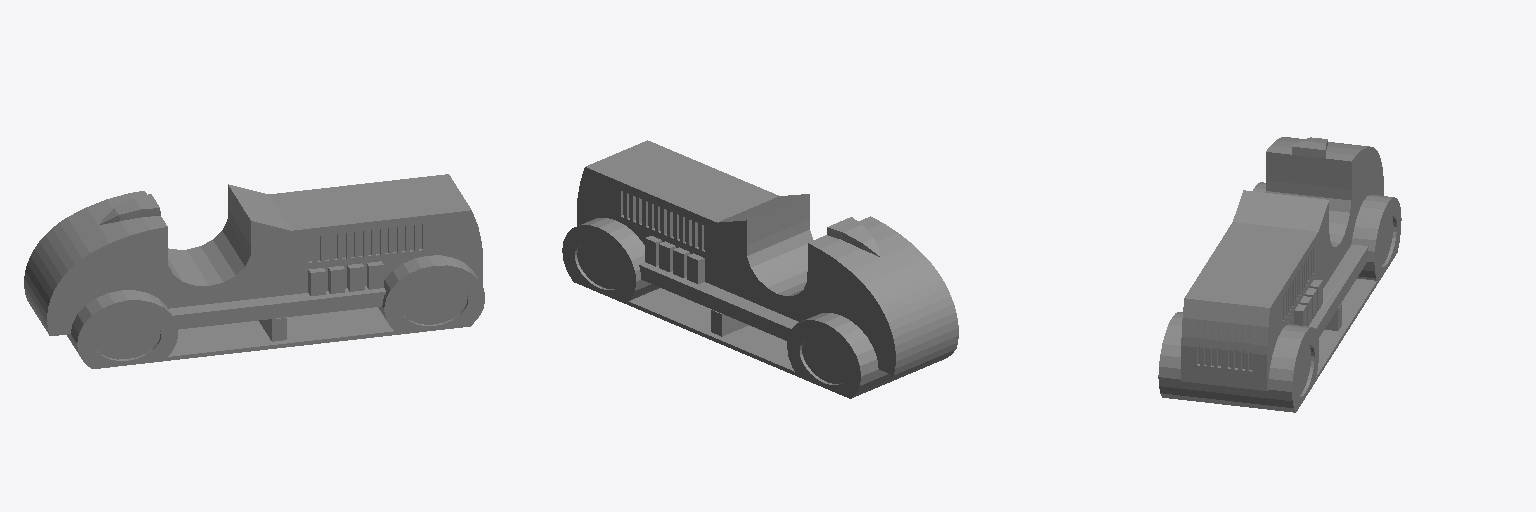
File: Car.obj
3 renders of one model, left to right at view 1: azimuth 30°, elevation 25°; view 2: azimuth 150°, elevation 25°; view 3: azimuth 270°, elevation 25°, orthographic.
Visible parts, largest first — view 1: Car_Monopoly.001; view 2: Car_Monopoly.001; view 3: Car_Monopoly.001.
Part boxes in pixels (bbox=[...]): Car_Monopoly.001: bbox=[24, 174, 484, 368]; Car_Monopoly.001: bbox=[562, 140, 958, 398]; Car_Monopoly.001: bbox=[1158, 137, 1401, 412].
Bounding box in the file's own units: 2.2 × 0.6889 × 1.16.